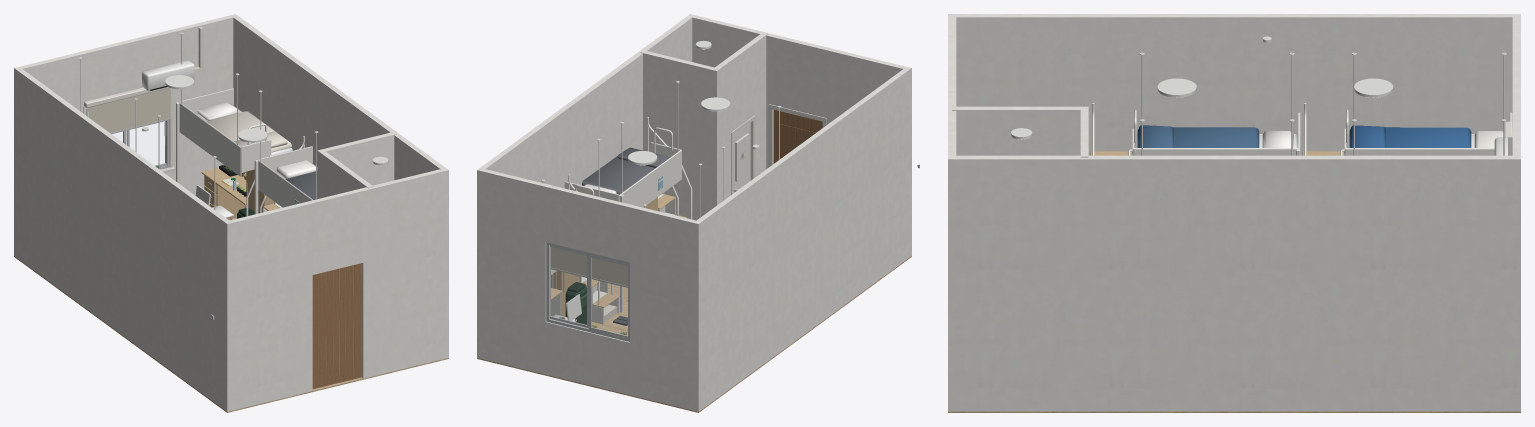
File: dorm_205.glb
The picture shows the model from 3 angles, left to right: view 1: azimuth 30°, elevation 25°; view 2: azimuth 150°, elevation 25°; view 3: azimuth 270°, elevation 25°; orthographic projection. The views are drawn at different scales.
Visible parts, largest first — view 1: WALL_left_wall, WALL_front_wall, WALL_right_wall, WALL_back_wall, WALL_front_door, LOFT_R1_frame, WALL_bath_n_wall, WALL_back_blind, dorm_wood, LOFT_R2_frame, WALL_bath_w_wall, BEDDING_R1_duvet (+10 smaller); view 2: WALL_left_wall, WALL_back_wall, WALL_right_wall, WALL_front_wall, WALL_bath_n_wall, WALL_bath_w_wall, WALL_back_glass, LOFT_R2_frame, WALL_back_alu, BEDDING_R2_duvet, WALL_back_blind, WALL_front_door (+8 smaller); view 3: WALL_right_wall, WALL_left_wall, WALL_bath_w_wall, BEDDING_L2_duvet, BEDDING_L1_duvet, LOFT_L2_frame, LOFT_L1_frame, dorm_fixtures, WALL_back_wall, WALL_front_wall, dorm_floor, BEDDING_L2_pillow.
Boxes of the visible parts, x1=… form: WALL_left_wall: x1=14, y1=67, x2=232, y2=411; WALL_front_wall: x1=230, y1=169, x2=443, y2=410; WALL_right_wall: x1=231, y1=14, x2=448, y2=358; WALL_back_wall: x1=19, y1=15, x2=233, y2=195; WALL_front_door: x1=312, y1=263, x2=361, y2=388; LOFT_R1_frame: x1=178, y1=88, x2=304, y2=176; WALL_bath_n_wall: x1=317, y1=132, x2=396, y2=198; WALL_back_blind: x1=88, y1=88, x2=170, y2=132; dorm_wood: x1=201, y1=168, x2=279, y2=219; LOFT_R2_frame: x1=257, y1=146, x2=312, y2=207; WALL_bath_w_wall: x1=320, y1=151, x2=373, y2=198; BEDDING_R1_duvet: x1=206, y1=111, x2=291, y2=152; WALL_left_wall: x1=693, y1=67, x2=911, y2=411; WALL_back_wall: x1=482, y1=169, x2=695, y2=410; WALL_right_wall: x1=477, y1=14, x2=694, y2=358; WALL_front_wall: x1=692, y1=15, x2=906, y2=168; WALL_bath_n_wall: x1=640, y1=50, x2=719, y2=220; WALL_bath_w_wall: x1=715, y1=32, x2=767, y2=202; WALL_back_glass: x1=550, y1=247, x2=627, y2=334; LOFT_R2_frame: x1=564, y1=117, x2=681, y2=207; WALL_back_alu: x1=546, y1=242, x2=629, y2=341; BEDDING_R2_duvet: x1=582, y1=147, x2=670, y2=194; WALL_back_blind: x1=551, y1=247, x2=627, y2=286; WALL_front_door: x1=773, y1=110, x2=822, y2=163; WALL_right_wall: x1=948, y1=155, x2=1520, y2=411; WALL_left_wall: x1=948, y1=14, x2=1520, y2=155; WALL_bath_w_wall: x1=952, y1=106, x2=1080, y2=155; BEDDING_L2_duvet: x1=1137, y1=125, x2=1259, y2=147; BEDDING_L1_duvet: x1=1349, y1=125, x2=1471, y2=147; LOFT_L2_frame: x1=1092, y1=103, x2=1300, y2=155; LOFT_L1_frame: x1=1304, y1=103, x2=1512, y2=155; dorm_fixtures: x1=1011, y1=36, x2=1393, y2=139; WALL_back_wall: x1=1512, y1=17, x2=1520, y2=155; WALL_front_wall: x1=948, y1=17, x2=956, y2=155; dorm_floor: x1=948, y1=411, x2=1520, y2=412; BEDDING_L2_pillow: x1=1262, y1=131, x2=1293, y2=147.
Size of the model in its own units: 4.41 by 3.43 by 7.
Materials: 41 (8 with a texture image).
